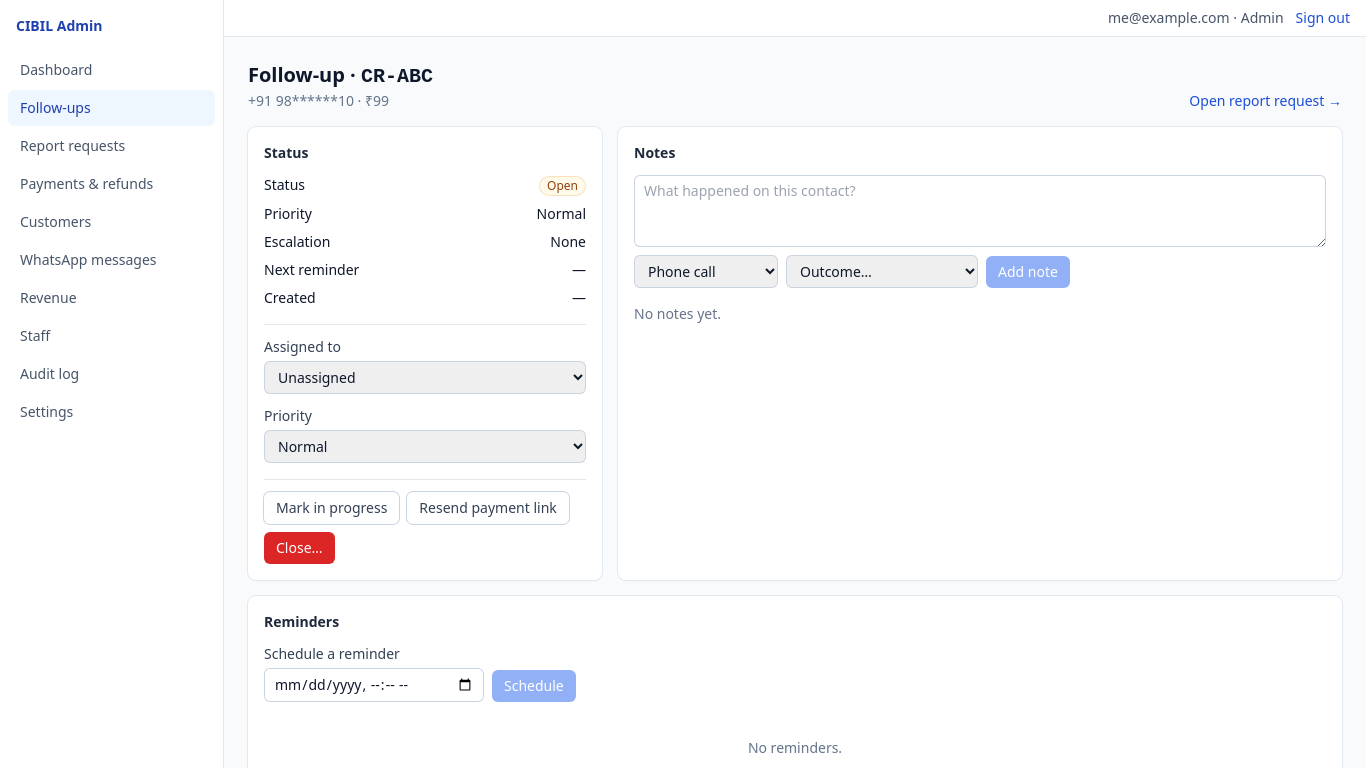
Test case: follow-up detail › adds a note
This screenshot has width=1366, height=768.
Type "Called, will pay tonight" into the text box with placeholder "What happened on this contact?".
click(980, 211); type("Called, will pay tonight")  # box [634,175,1326,247]
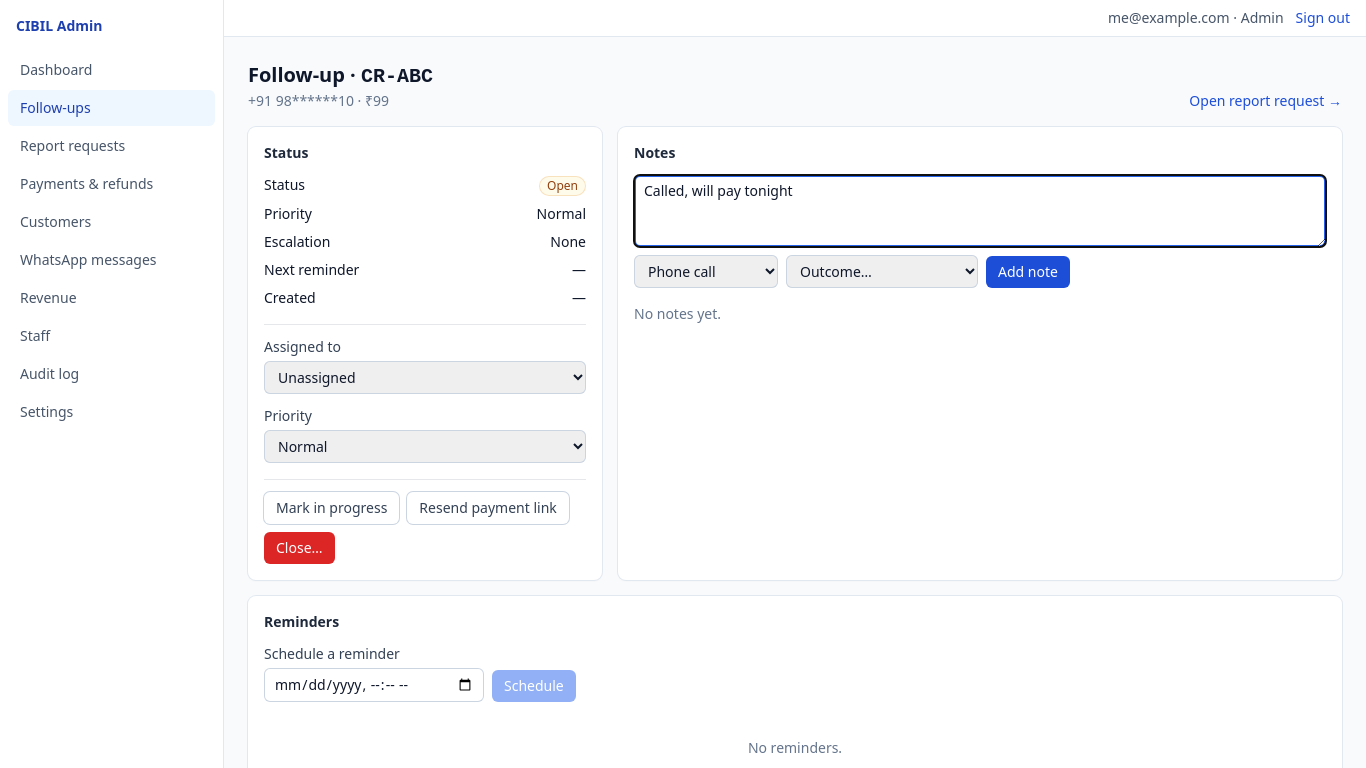
Click the button "Add note".
click(1028, 272)  # box [986,256,1070,288]
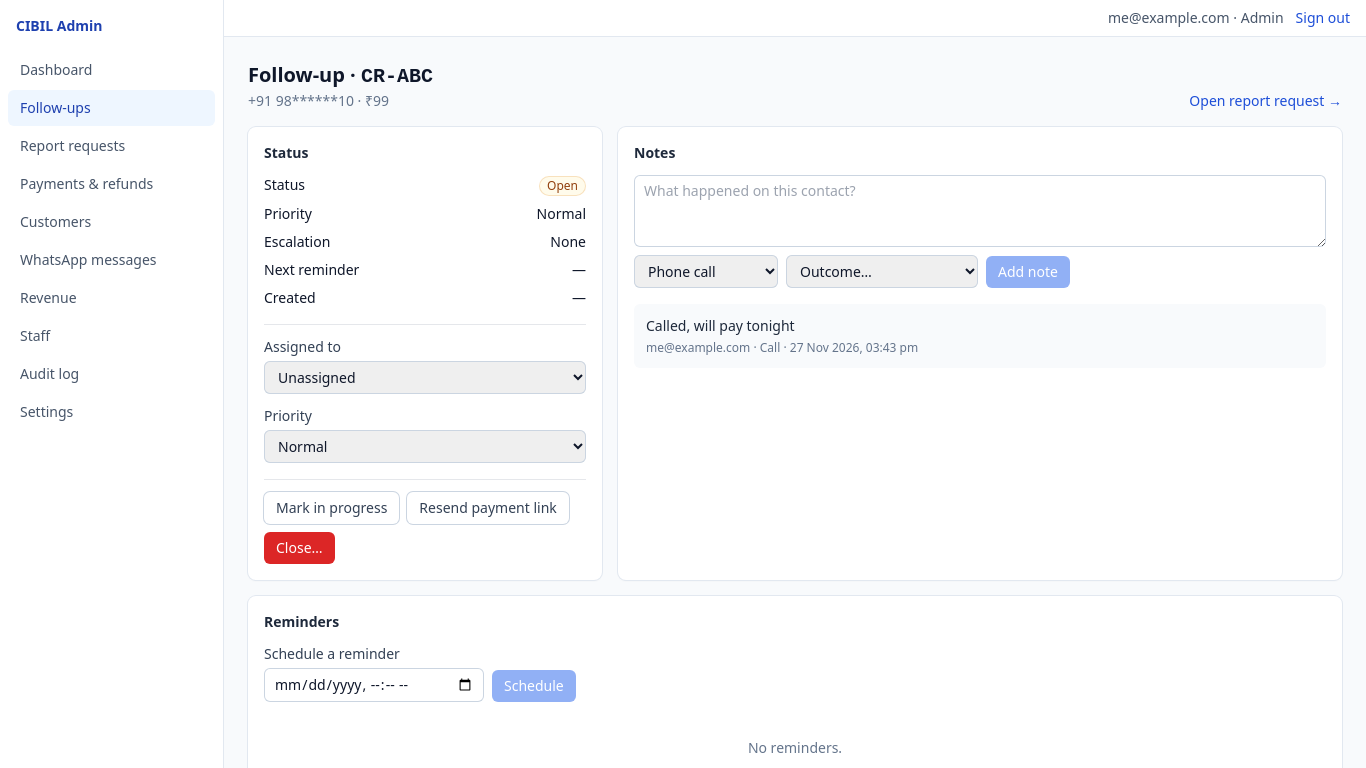
Expected: the text "Called, will pay tonight" is shown, [646,316,795,335]
